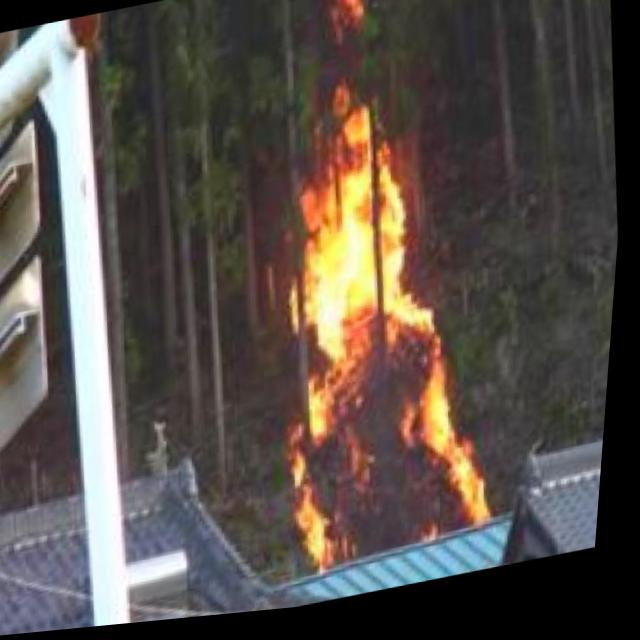Fire: (246, 75, 524, 592)
